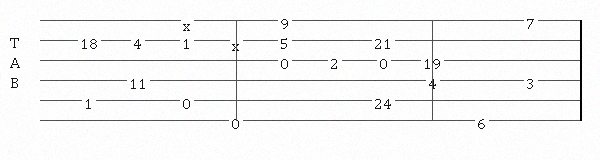0: (182, 93, 195, 107), (231, 113, 244, 127), (280, 53, 293, 67), (379, 53, 392, 67)
1: (84, 93, 97, 107), (182, 33, 195, 47)
11: (129, 73, 151, 87)
18: (80, 33, 102, 47)
19: (423, 53, 445, 67)
2: (330, 53, 343, 67)
21: (374, 33, 396, 47)
24: (374, 93, 396, 107)
3: (526, 73, 539, 87)
4: (133, 33, 146, 47), (428, 73, 441, 87)
5: (280, 33, 293, 48)
6: (477, 113, 490, 127)
7: (526, 13, 539, 27)
9: (280, 13, 293, 27)
x: (183, 15, 195, 26), (232, 35, 244, 46)
